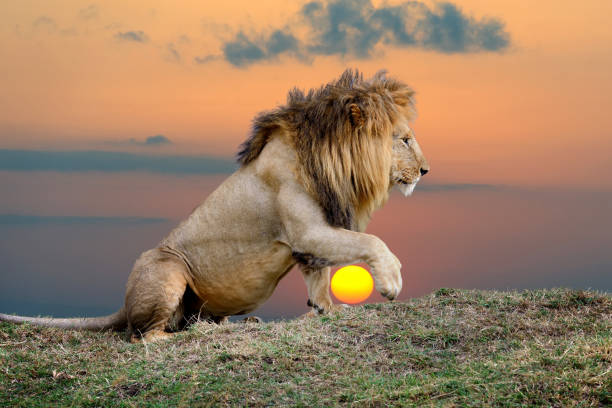lion: (216, 53, 438, 246)
